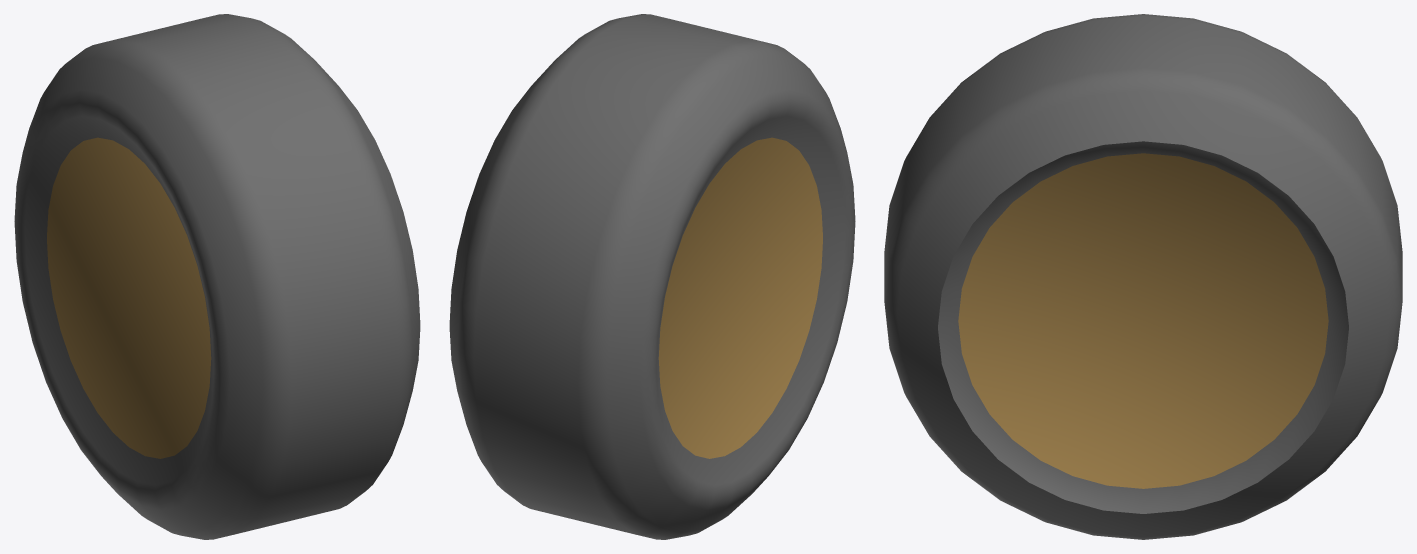
Rendered from Proto_Robot_Wheel.fbx.
The picture shows the model from 3 angles, left to right: view 1: azimuth 30°, elevation 25°; view 2: azimuth 150°, elevation 25°; view 3: azimuth 270°, elevation 25°; orthographic projection.
Visible parts, largest first — view 1: Cylinder.002; view 2: Cylinder.002; view 3: Cylinder.002.
Boxes of the visible parts, x1=… form: Cylinder.002: x1=14, y1=14, x2=420, y2=539; Cylinder.002: x1=449, y1=14, x2=855, y2=539; Cylinder.002: x1=884, y1=14, x2=1402, y2=539.
Size of the model in its own units: 2.36 by 5.2 by 5.2.
